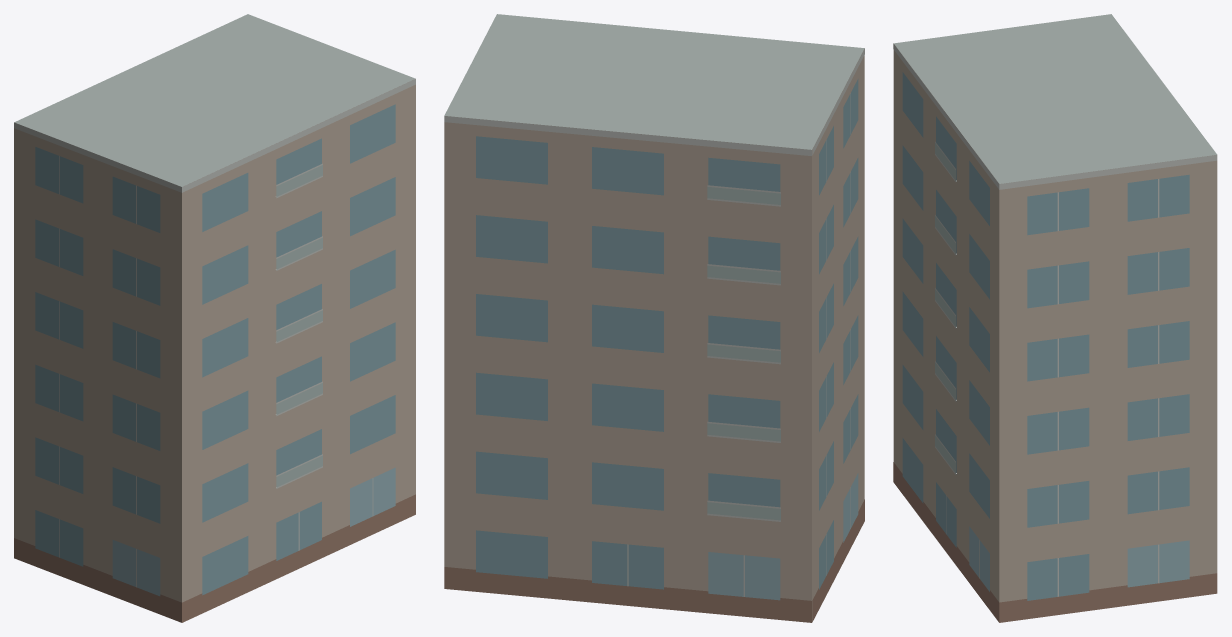
Rendered from survey-upis-32764872.glb.
The picture shows the model from 3 angles, left to right: view 1: azimuth 30°, elevation 25°; view 2: azimuth 150°, elevation 25°; view 3: azimuth 270°, elevation 25°; orthographic projection. The views are drawn at different scales.
Parts seen in each view (by area): view 1: survey-upis-32764872.tmp; view 2: survey-upis-32764872.tmp; view 3: survey-upis-32764872.tmp.
Part boxes in pixels (<box>): survey-upis-32764872.tmp: <box>14,14,415,622</box>; survey-upis-32764872.tmp: <box>444,14,864,622</box>; survey-upis-32764872.tmp: <box>893,14,1217,622</box>.
Size of the model in its own units: 15.22 by 18.3 by 12.25.
